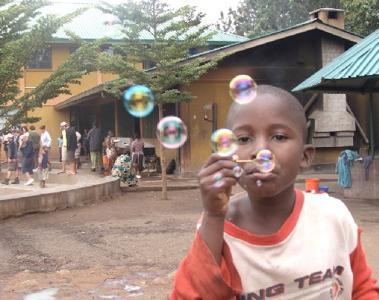person: (163, 83, 376, 298)
